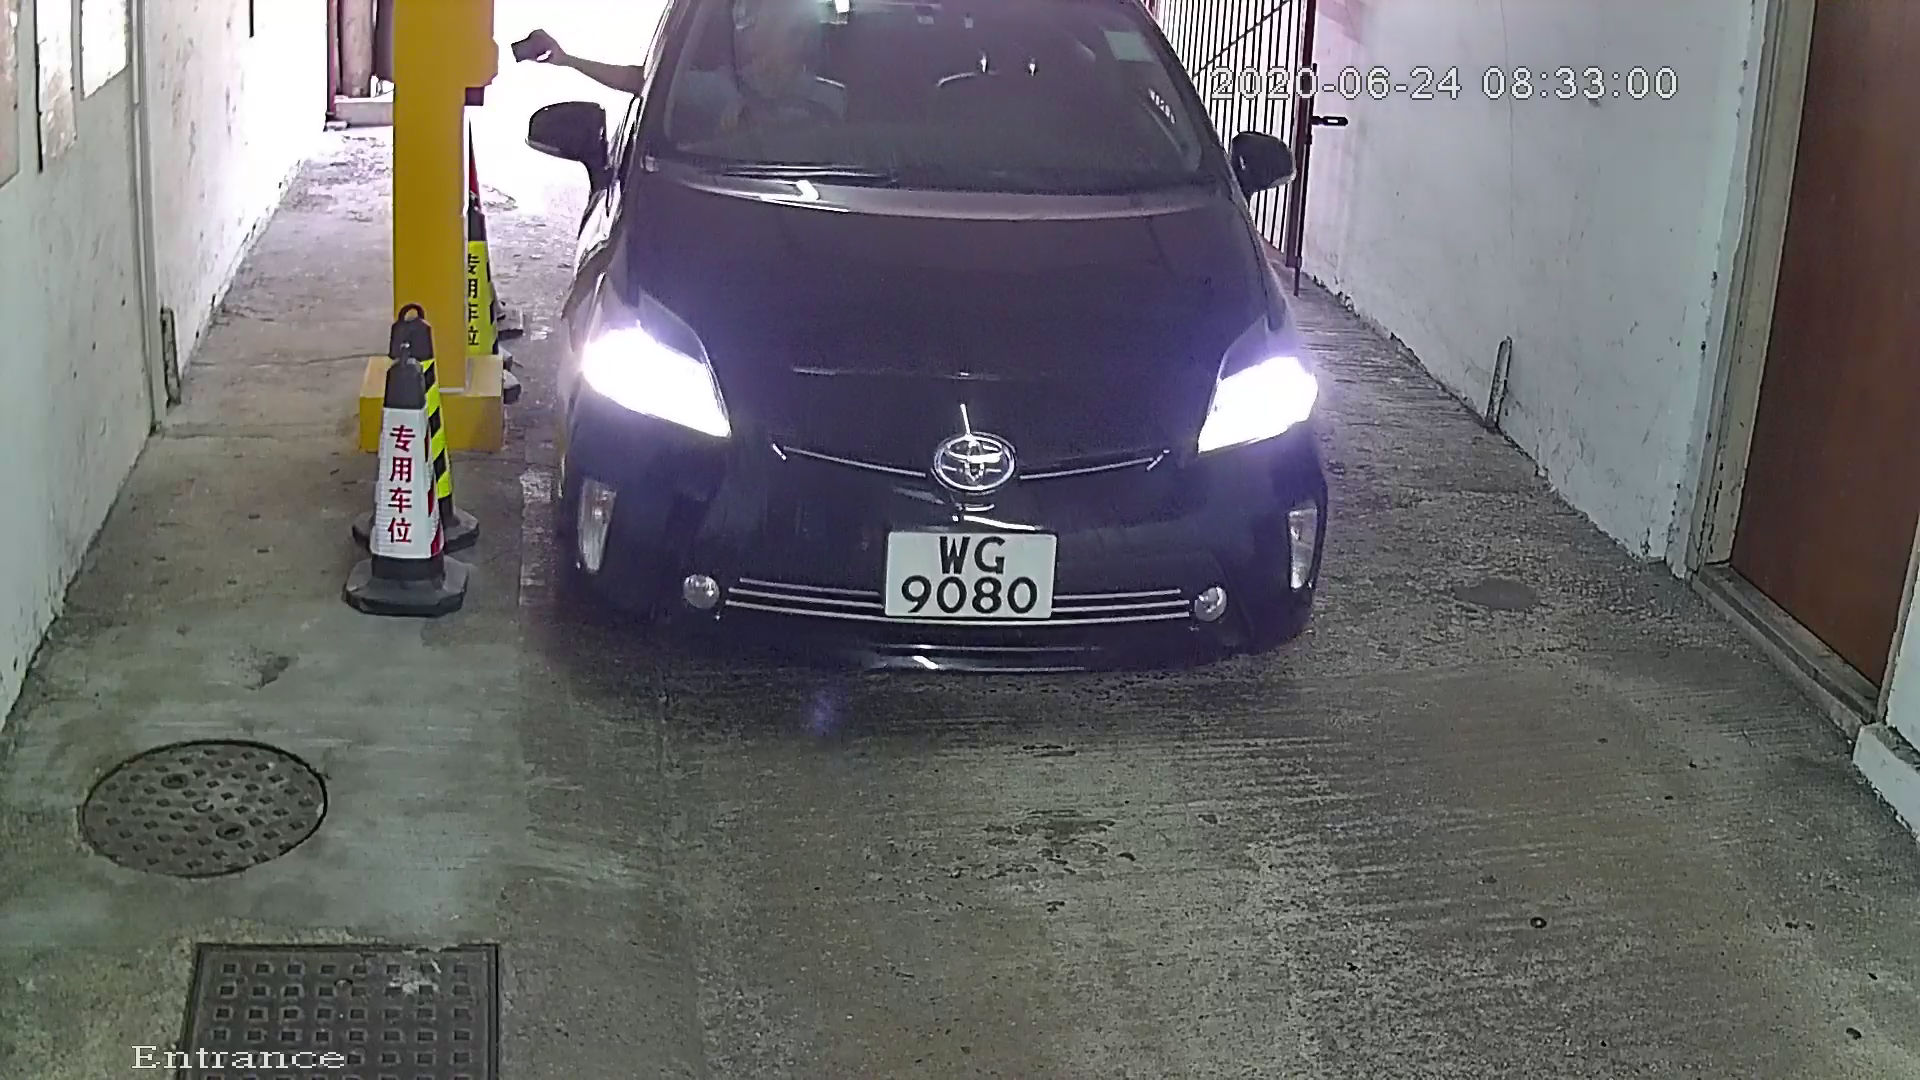privatecar: (488, 1, 1364, 715)
